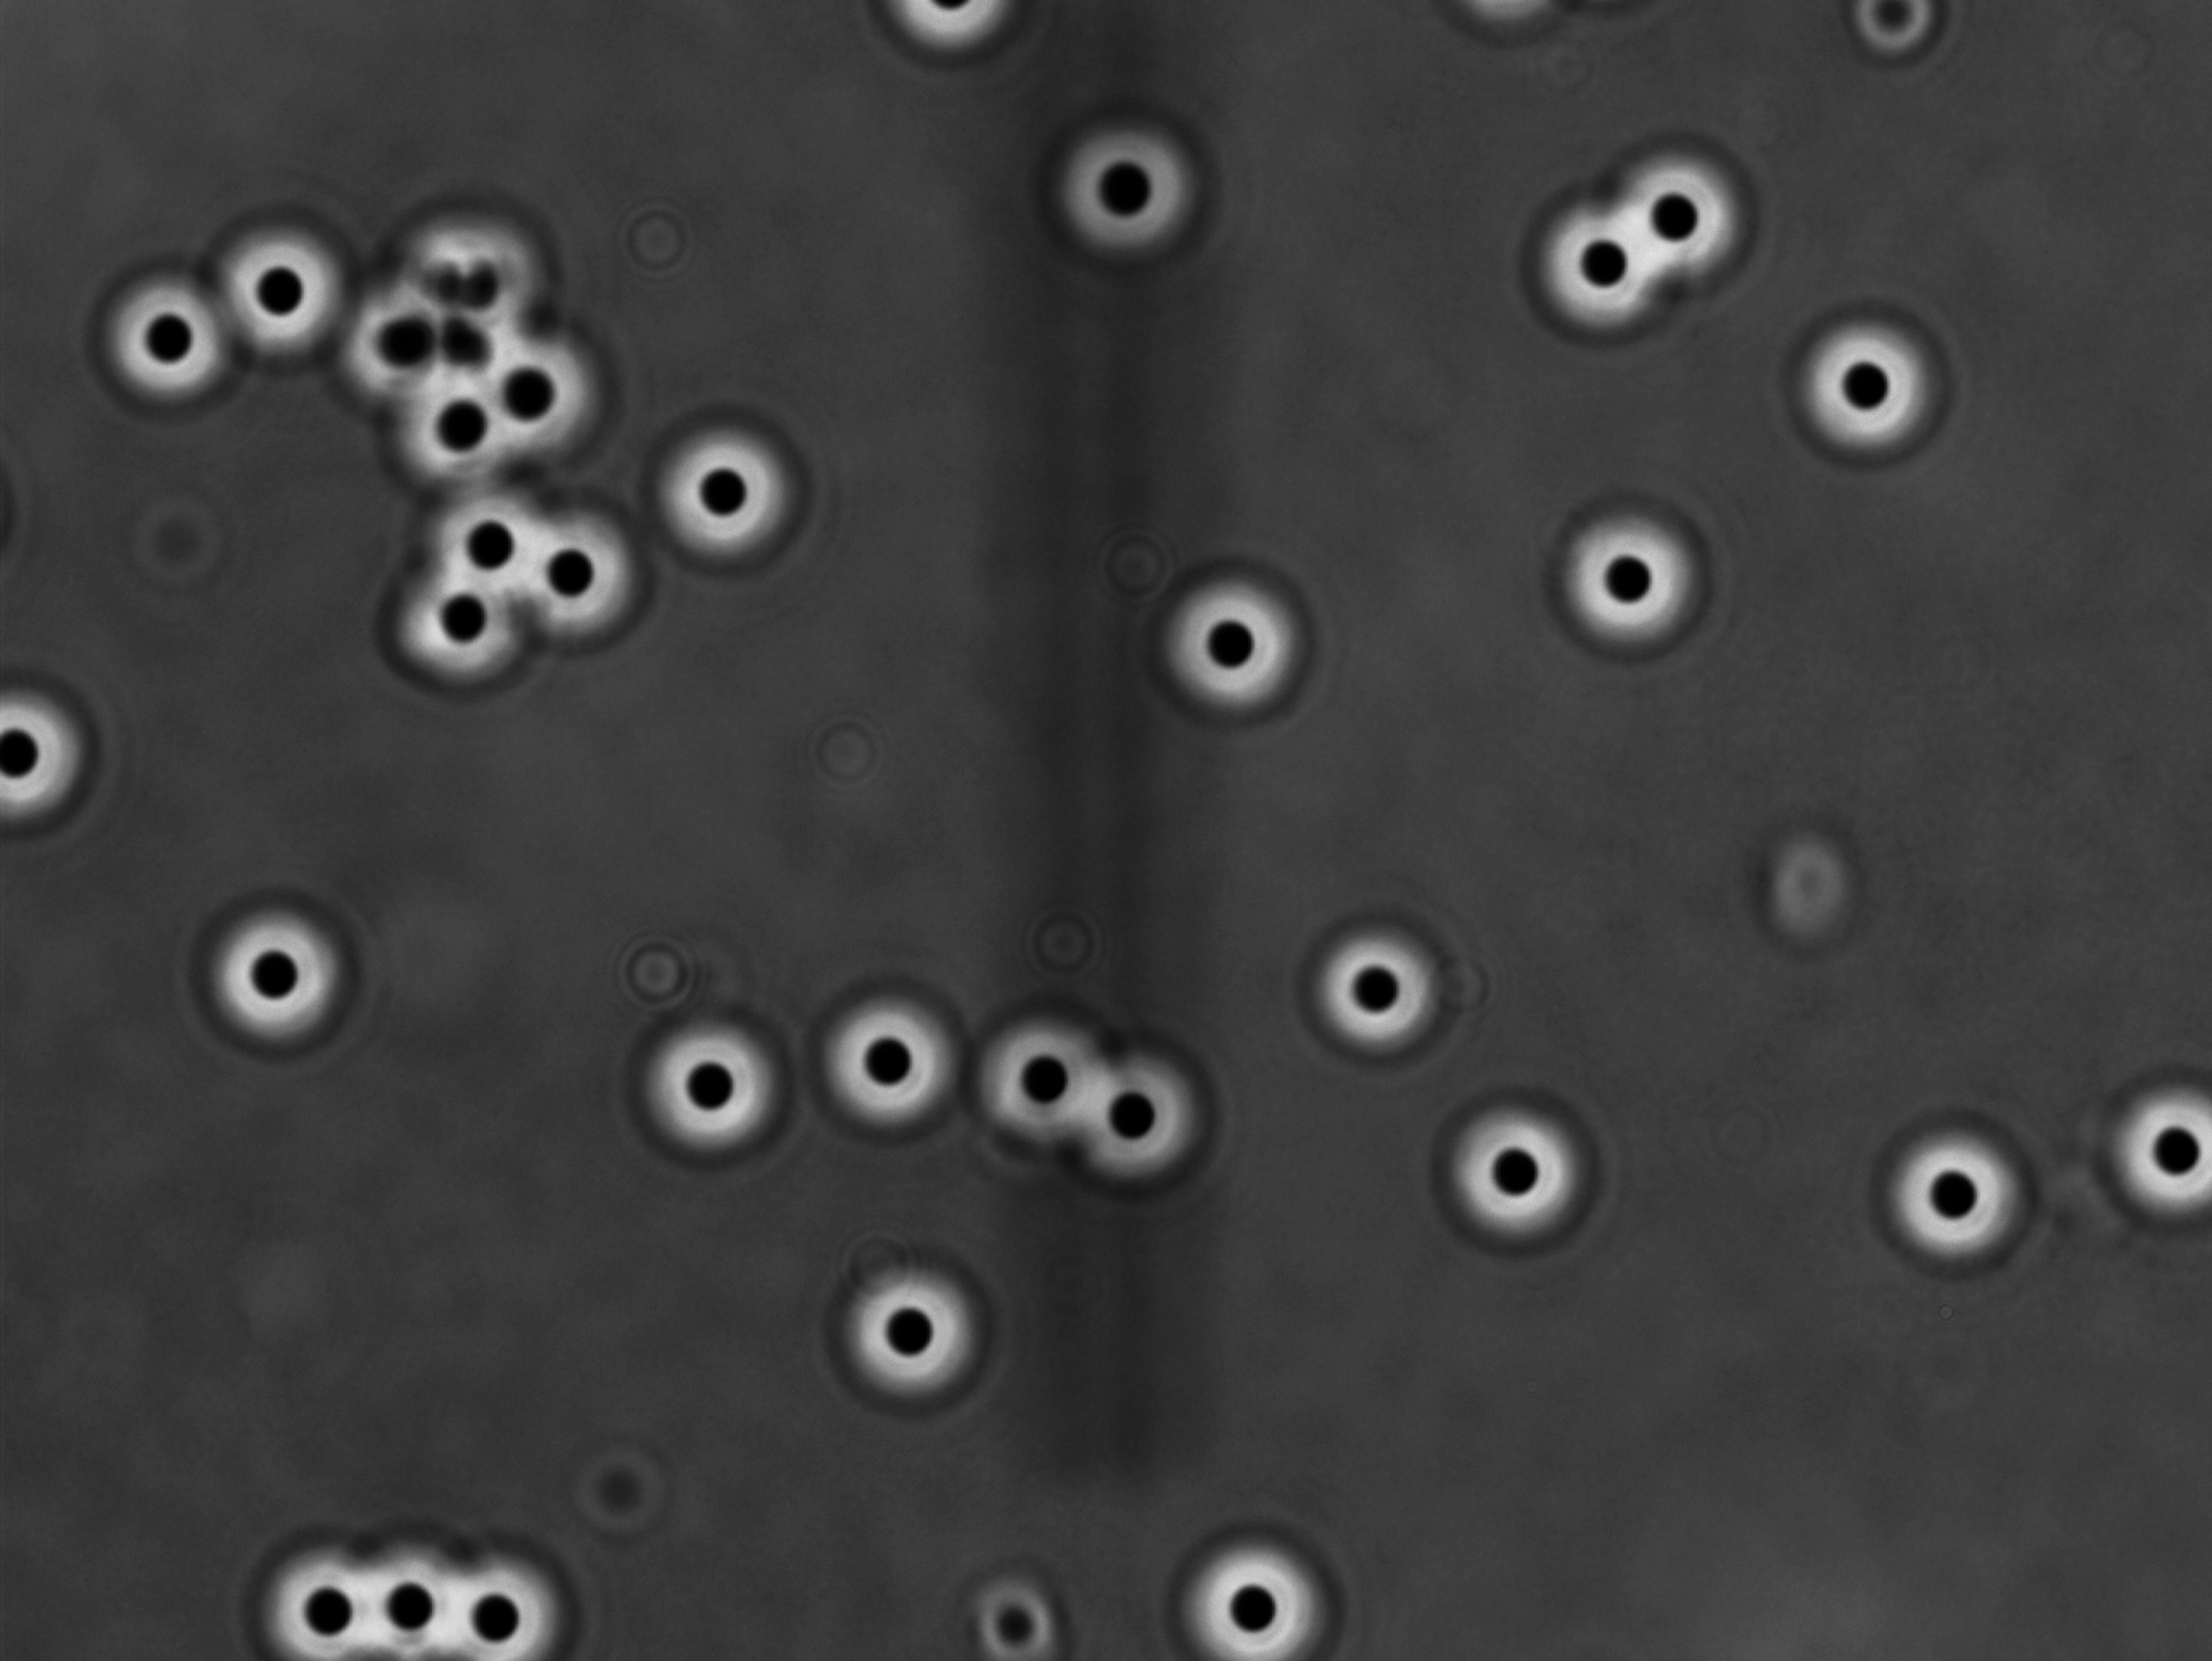depth:-40: (1863, 1101, 2081, 1281), (1282, 888, 1478, 1073), (1439, 1078, 1626, 1270), (1546, 478, 1738, 665), (818, 1246, 1017, 1425), (180, 878, 379, 1056), (1781, 298, 1968, 476), (802, 961, 982, 1145), (1144, 558, 1329, 736), (621, 998, 806, 1171), (963, 991, 1129, 1172), (1153, 1516, 1359, 1661), (1043, 112, 1219, 274), (642, 410, 808, 578), (370, 560, 541, 721), (1499, 176, 1662, 340), (213, 197, 379, 359), (1593, 127, 1764, 284), (361, 1506, 530, 1661), (84, 263, 249, 420), (234, 1525, 419, 1661), (1073, 1043, 1228, 1195), (476, 318, 635, 464), (412, 471, 569, 614), (399, 361, 544, 509), (508, 506, 647, 644), (443, 1549, 602, 1661)
